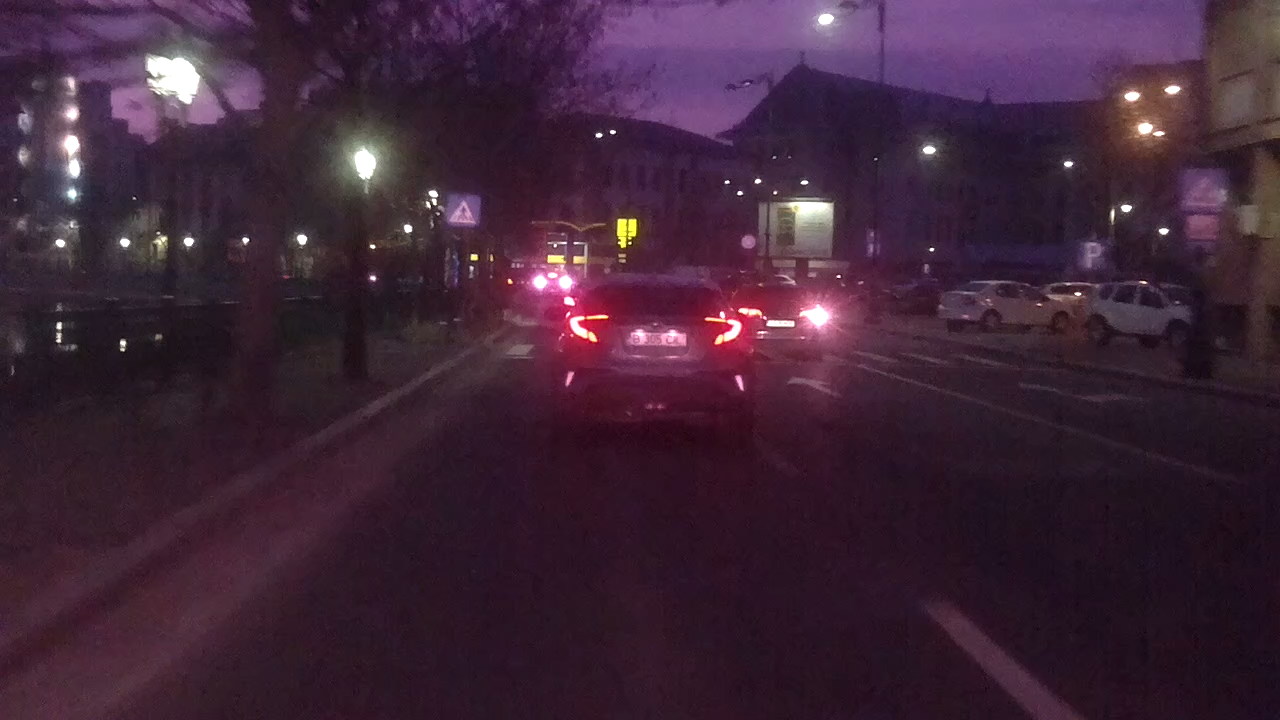license-plate: (626, 330, 689, 349)
